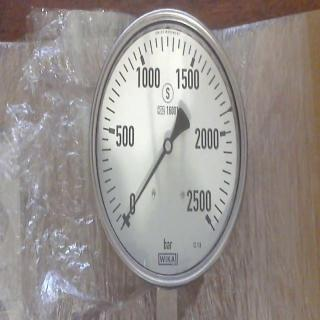gauge: (86, 0, 248, 316), (198, 205, 222, 237), (115, 208, 139, 232), (162, 136, 174, 154), (120, 220, 128, 228)
